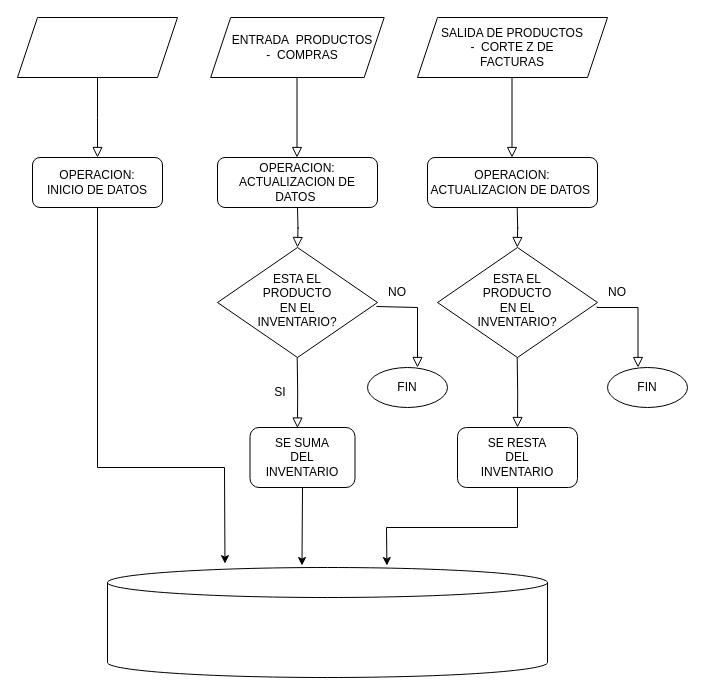
This 705x695 diagram has some shape labels left out. Each missing label, with the centre of its shape:
"BASE DE DATOS EN LA NUBE" goes at point 327,622.
"ENTRADA INVENTARIO INICIAL" goes at point 97,47.
